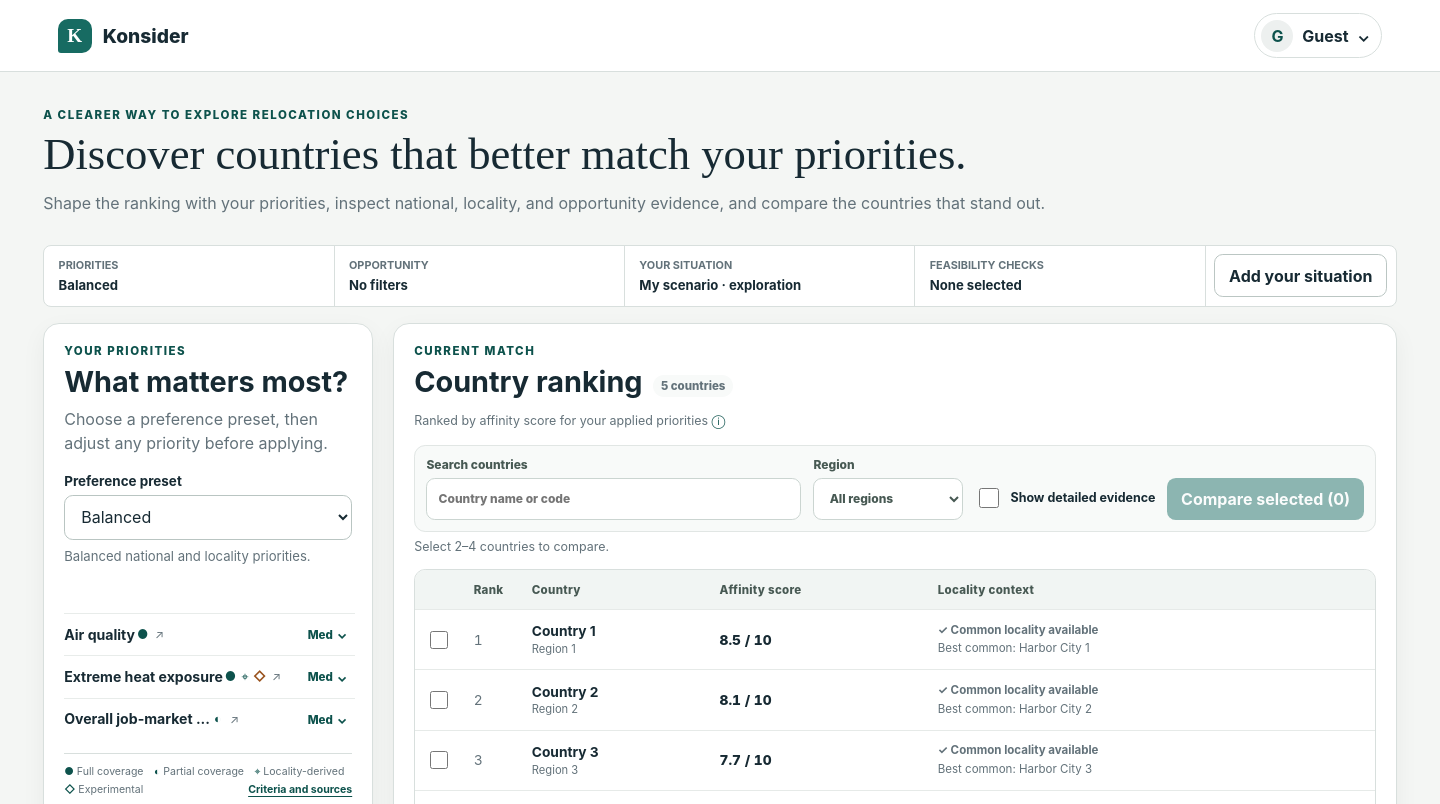
Test case: opens all three helper pages and filters the country coverage table
The width and height of the screenshot is (1440, 804).
Expected: the heading "Country ranking" is shown, [414,365,642,398]
Click the button "G Guest ⌄" at coordinates (1318, 36), box [1254,13,1382,58]
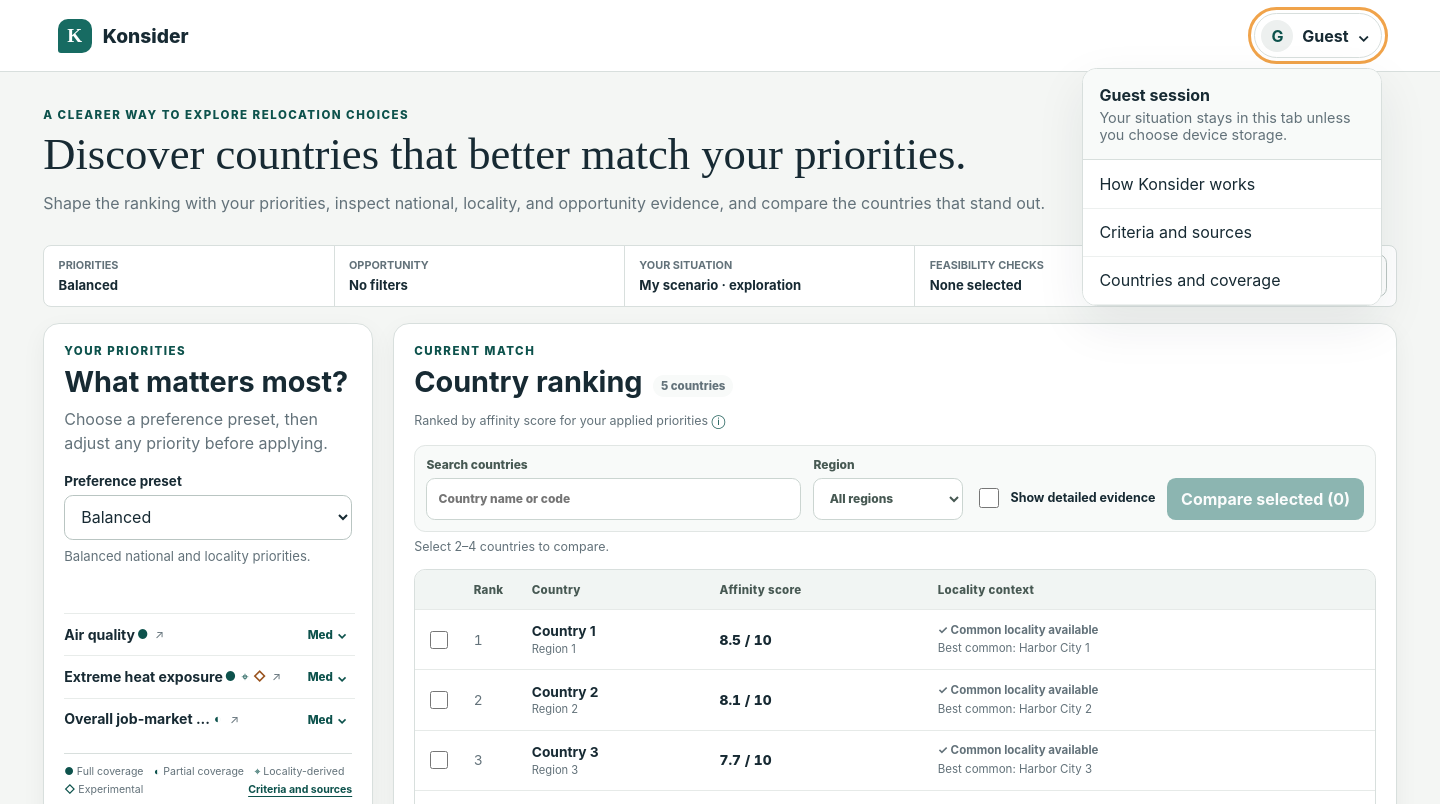
Expected: the menu item "How Konsider works" is shown, [1083,160,1381,209]
Expected: the menu item "Criteria and sources" is shown, [1083,209,1381,257]
Click the menu item "Countries and coverage" at coordinates (1232, 281), box [1083,257,1381,305]
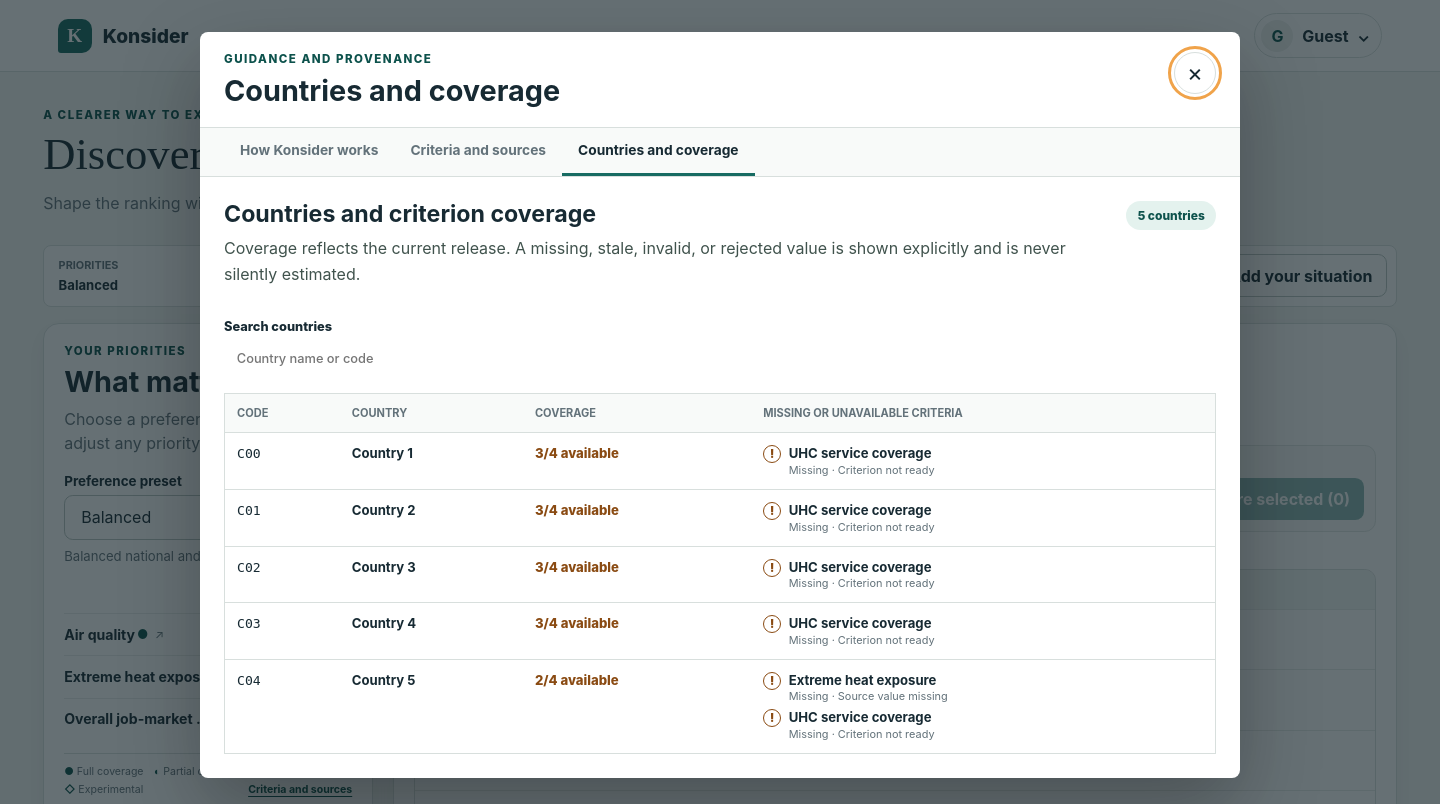
Expected: the row "C04 Country 5 2/4 available" is shown, [225,659,1215,753]
Expected: the text "Extreme heat exposure" is shown, [789,672,936,688]
Type "c03" into the search field labelled "Search countries" at coordinates (434, 359), box [224,340,644,377]
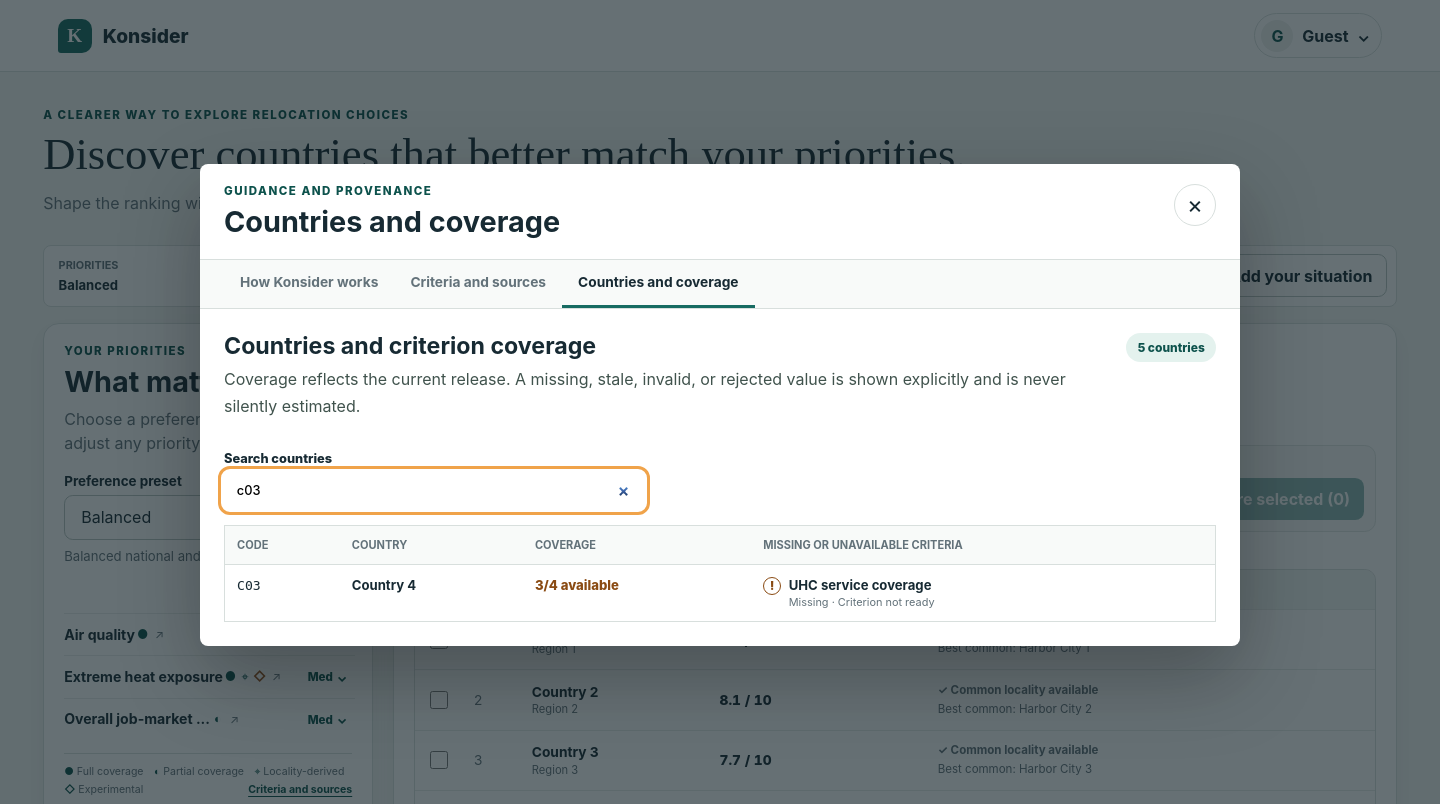
Expected: the row "C03 Country 4" is shown, [225,565,1215,621]
Expected: the row "C00 Country 1" is gone
